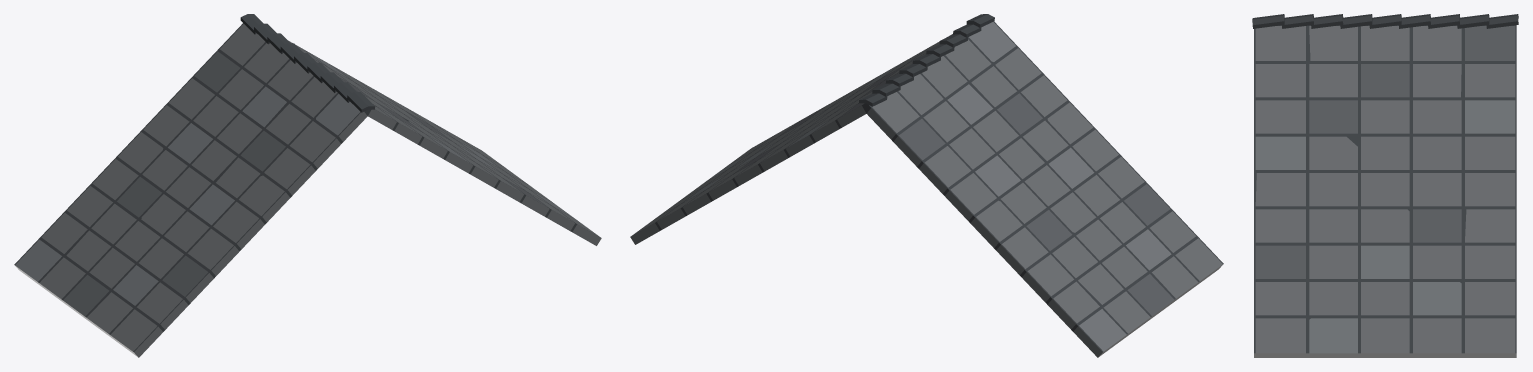
The model's file is Roof1_C8_01.fbx.
3 views of the same model, side by side, from view 1: azimuth 30°, elevation 25°; view 2: azimuth 150°, elevation 25°; view 3: azimuth 270°, elevation 25° (orthographic). The views are drawn at different scales.
Parts seen in each view (by area): view 1: Roof1_C8_01; view 2: Roof1_C8_01; view 3: Roof1_C8_01.
Part boxes in pixels (left/top/right/bottom): Roof1_C8_01: left=14, top=14, right=601, bottom=357; Roof1_C8_01: left=630, top=14, right=1223, bottom=357; Roof1_C8_01: left=1252, top=14, right=1518, bottom=357.
Size of the model in its own units: 565 by 231 by 254.
